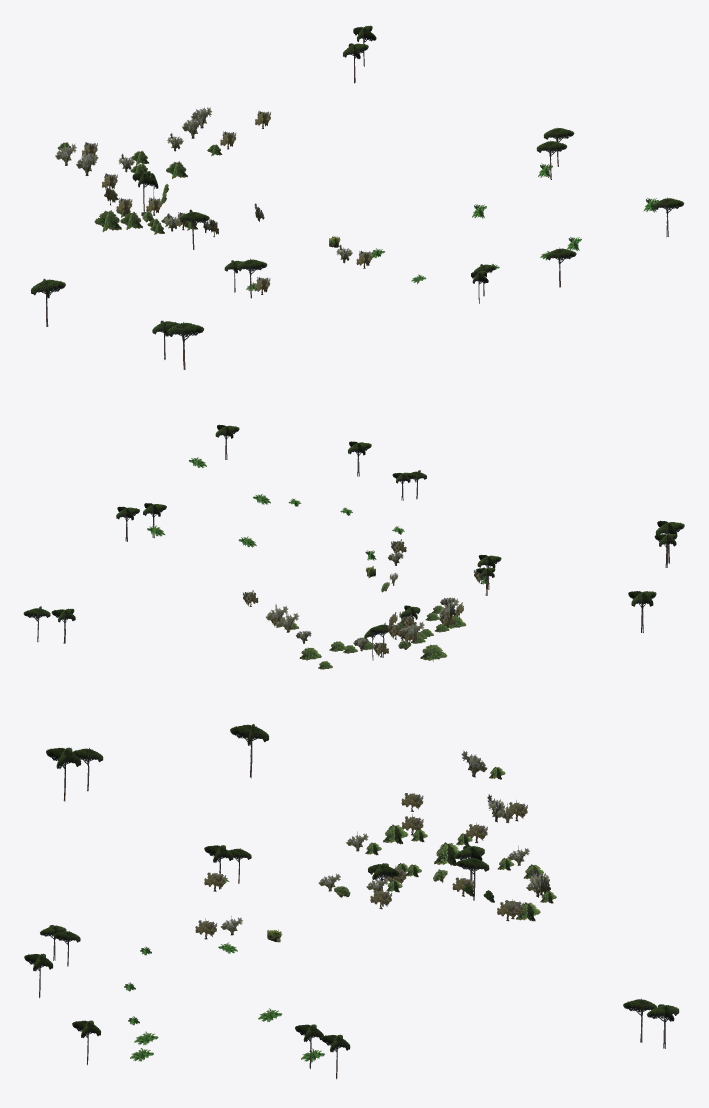
File: colera2finalPlant.glb
The picture shows the model from 3 angles, top to bottom: view 1: azimuth 30°, elevation 25°; view 2: azimuth 150°, elevation 25°; view 3: azimuth 270°, elevation 25°; orthographic projection. The views are drawn at different scales.
Visible parts, largest first — view 1: Plane.008; view 2: Plane.008; view 3: Plane.008.
Boxes of the visible parts, bbox=[...] form: Plane.008: bbox=[30, 25, 684, 369]; Plane.008: bbox=[23, 424, 684, 669]; Plane.008: bbox=[24, 724, 679, 1079].
Size of the model in its own units: 1198 by 192 by 1053.
Materials: 122 (122 with a texture image).
